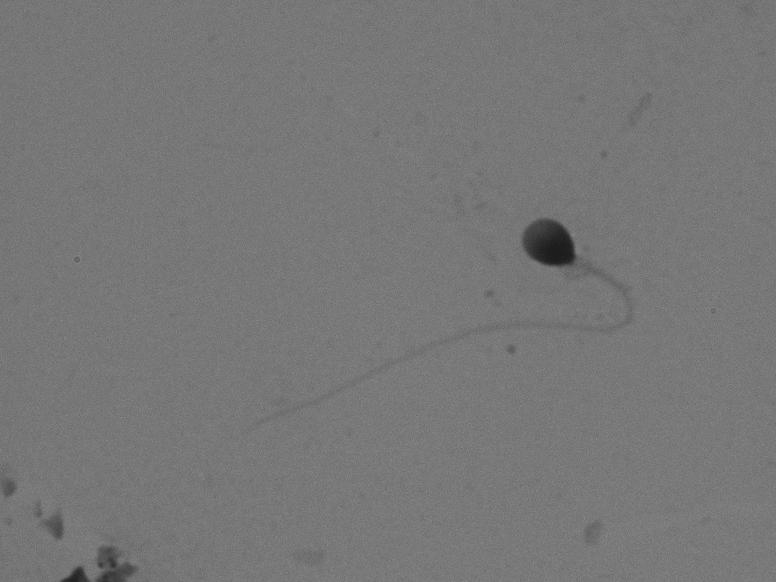Normal: (188, 204, 677, 436)
